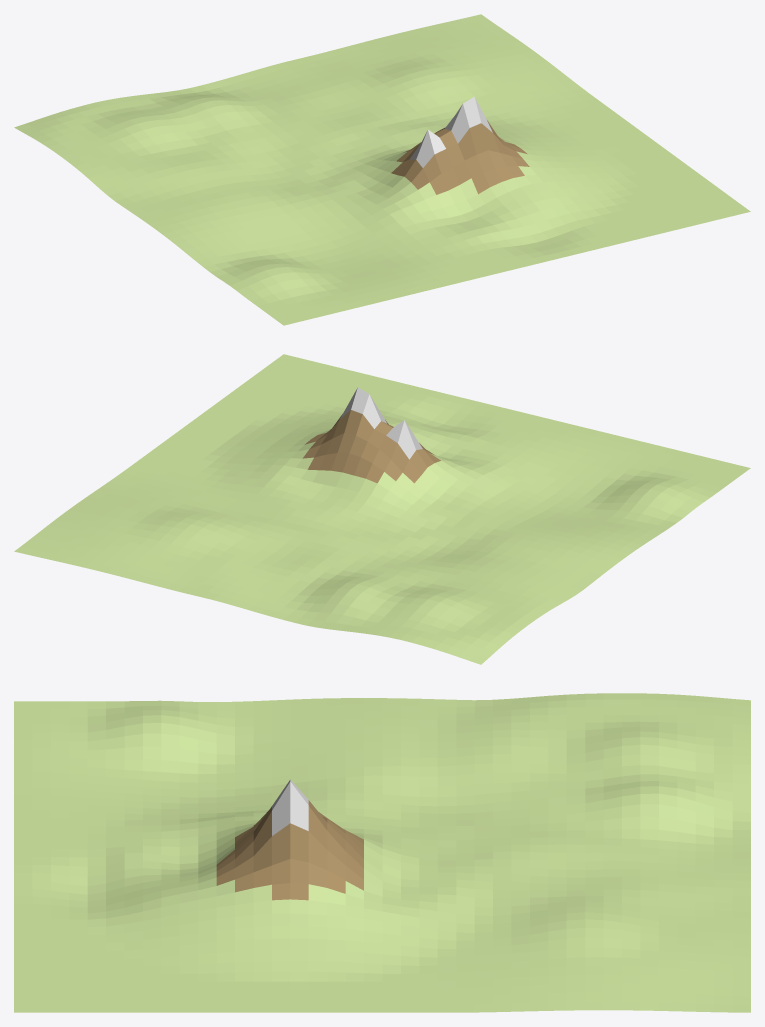
The model's file is land.fbx.
3 views of the same model, one above another, from view 1: azimuth 30°, elevation 25°; view 2: azimuth 150°, elevation 25°; view 3: azimuth 270°, elevation 25° (orthographic). The views are drawn at different scales.
Parts seen in each view (by area): view 1: pPlane2; view 2: pPlane2; view 3: pPlane2.
Boxes of the visible parts, bbox=[...] form: pPlane2: bbox=[14, 14, 750, 325]; pPlane2: bbox=[14, 354, 750, 664]; pPlane2: bbox=[14, 693, 750, 1012].
Size of the model in its own units: 14.9 by 2.8 by 14.9.
